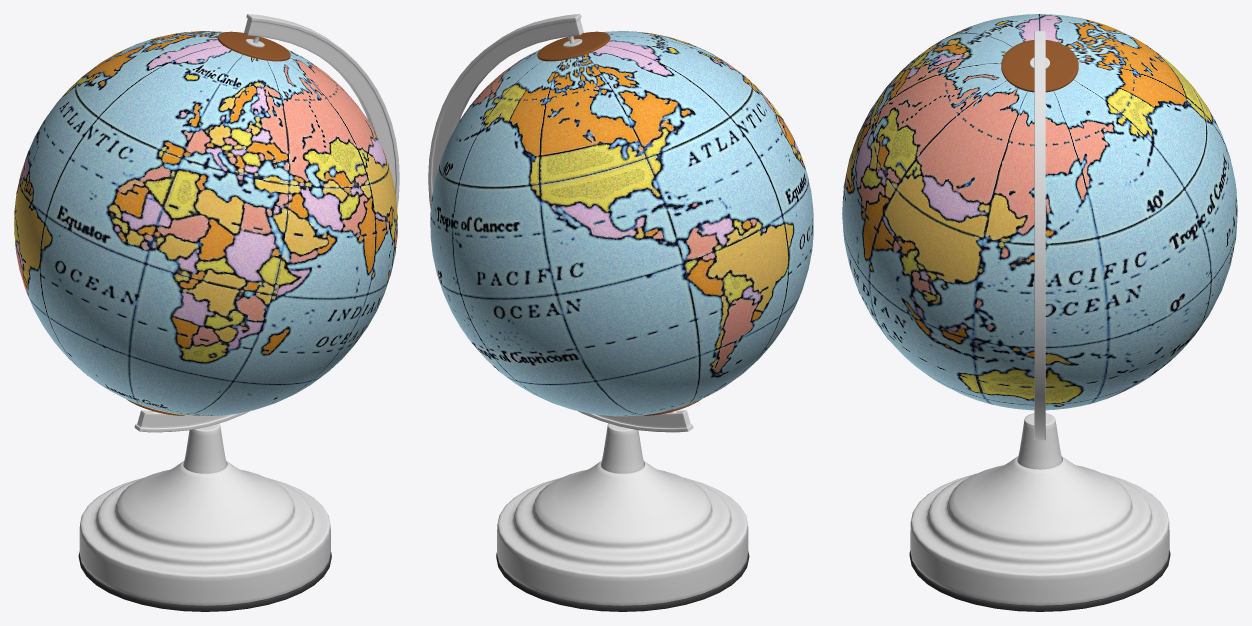
Rendered from globus.gltf.
The picture shows the model from 3 angles, left to right: view 1: azimuth 30°, elevation 25°; view 2: azimuth 150°, elevation 25°; view 3: azimuth 270°, elevation 25°; orthographic projection. The views are drawn at different scales.
Parts seen in each view (by area): view 1: globe; view 2: globe; view 3: globe.
Boxes of the visible parts, left/top/right/bottom form: globe: left=14, top=14, right=399, bottom=611; globe: left=428, top=14, right=813, bottom=611; globe: left=842, top=14, right=1237, bottom=611.
Size of the model in its own units: 178 by 253 by 165.
4 materials, 1 textured.
